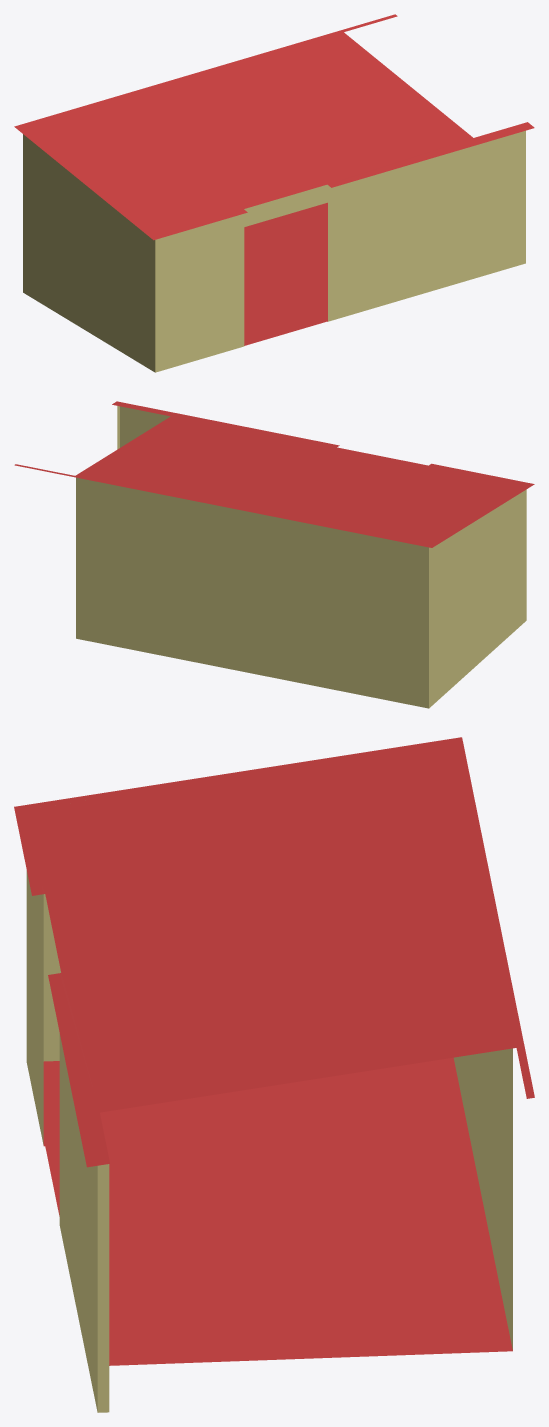
3 renders of one model, top to bottom at view 1: azimuth 30°, elevation 25°; view 2: azimuth 150°, elevation 25°; view 3: azimuth 270°, elevation 25°, orthographic. The views are drawn at different scales.
Size of the model in its own units: 19.02 by 11.11 by 7.16.
